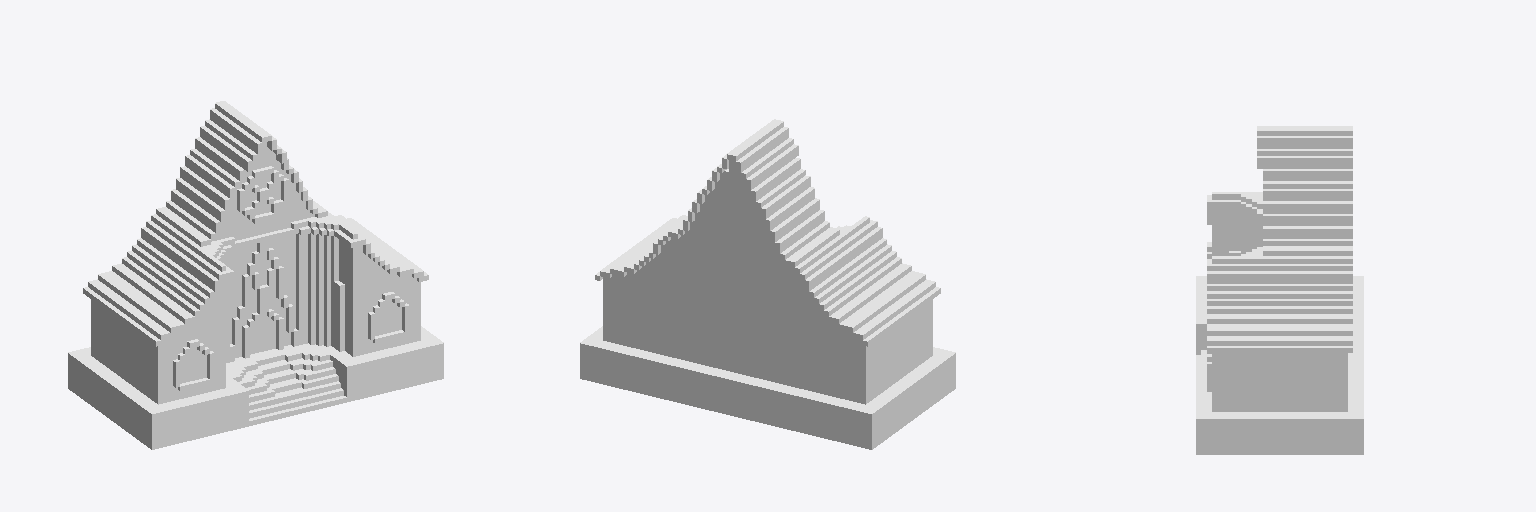
Rendered from valhalla.obj.
The picture shows the model from 3 angles: view 1: azimuth 30°, elevation 25°; view 2: azimuth 150°, elevation 25°; view 3: azimuth 270°, elevation 25°; orthographic projection.
Parts seen in each view (by area): view 1: valhalla; view 2: valhalla; view 3: valhalla.
Part boxes in pixels (x1,y1,x2,y2): valhalla: (68,101,443,449); valhalla: (580,119,955,449); valhalla: (1196,126,1363,454).
Size of the model in its own units: 60 by 50 by 30.